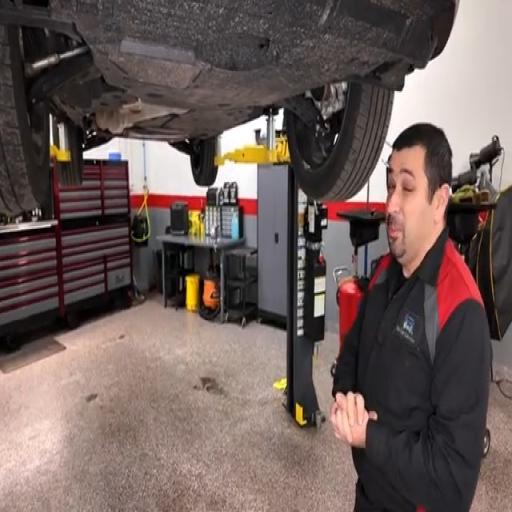tire: (285, 83, 393, 201), (0, 26, 49, 214)
wheel: (284, 83, 393, 200), (0, 26, 49, 214), (58, 121, 83, 186), (190, 137, 217, 186)
